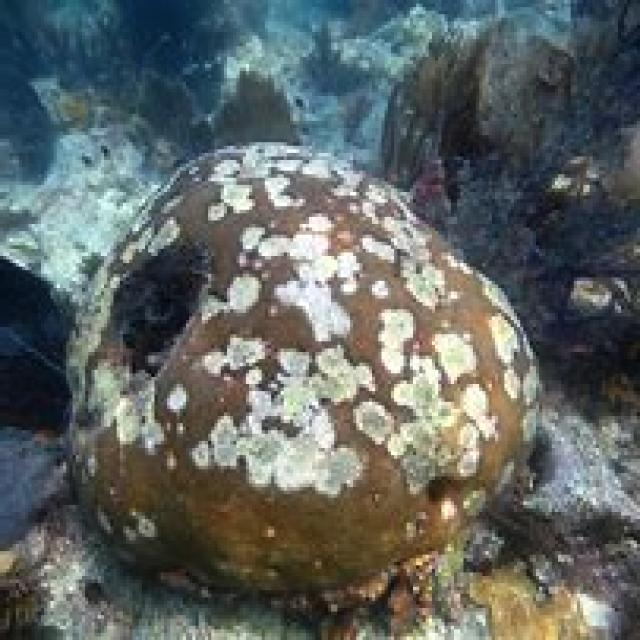Coral: (65, 140, 543, 594)
